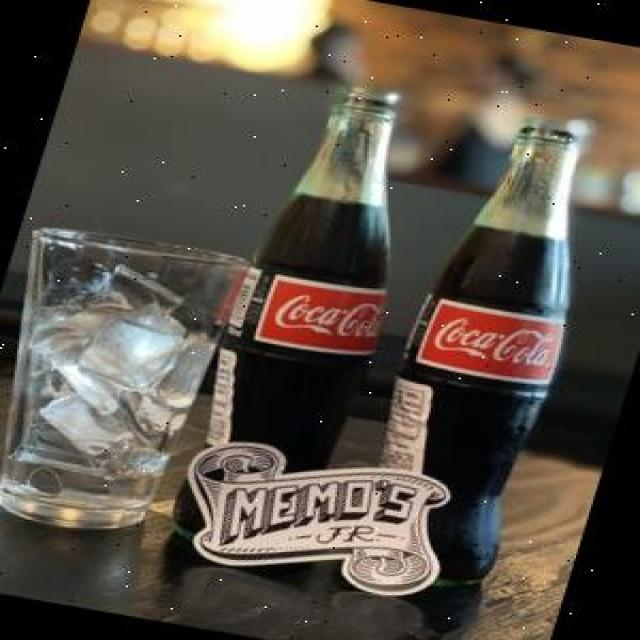coca-cola: (326, 96, 640, 611), (164, 72, 454, 555)
